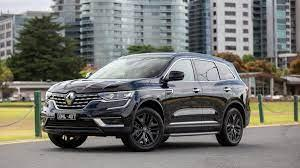Renault: (62, 88, 81, 107)
